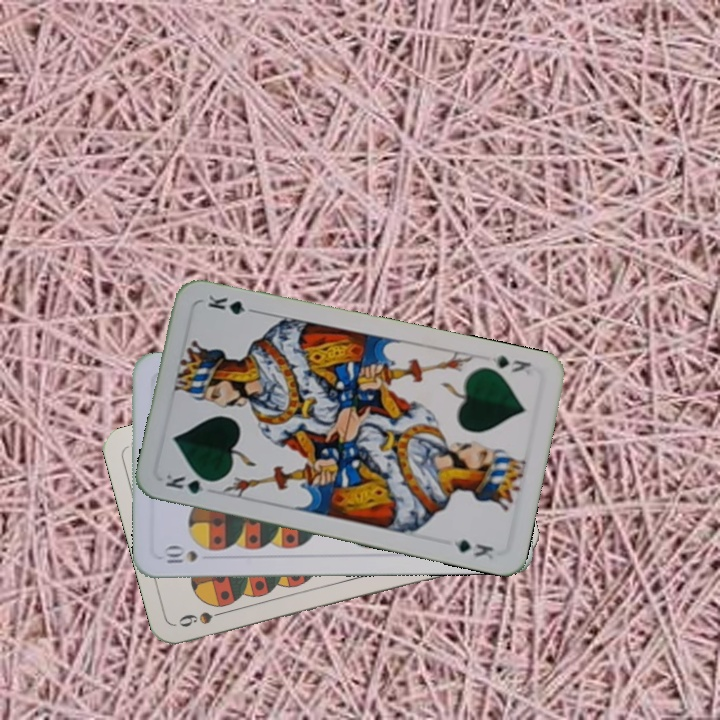GK: (161, 470, 219, 497), (488, 351, 533, 378)
S10: (162, 544, 201, 566)
S9: (174, 605, 233, 630)
